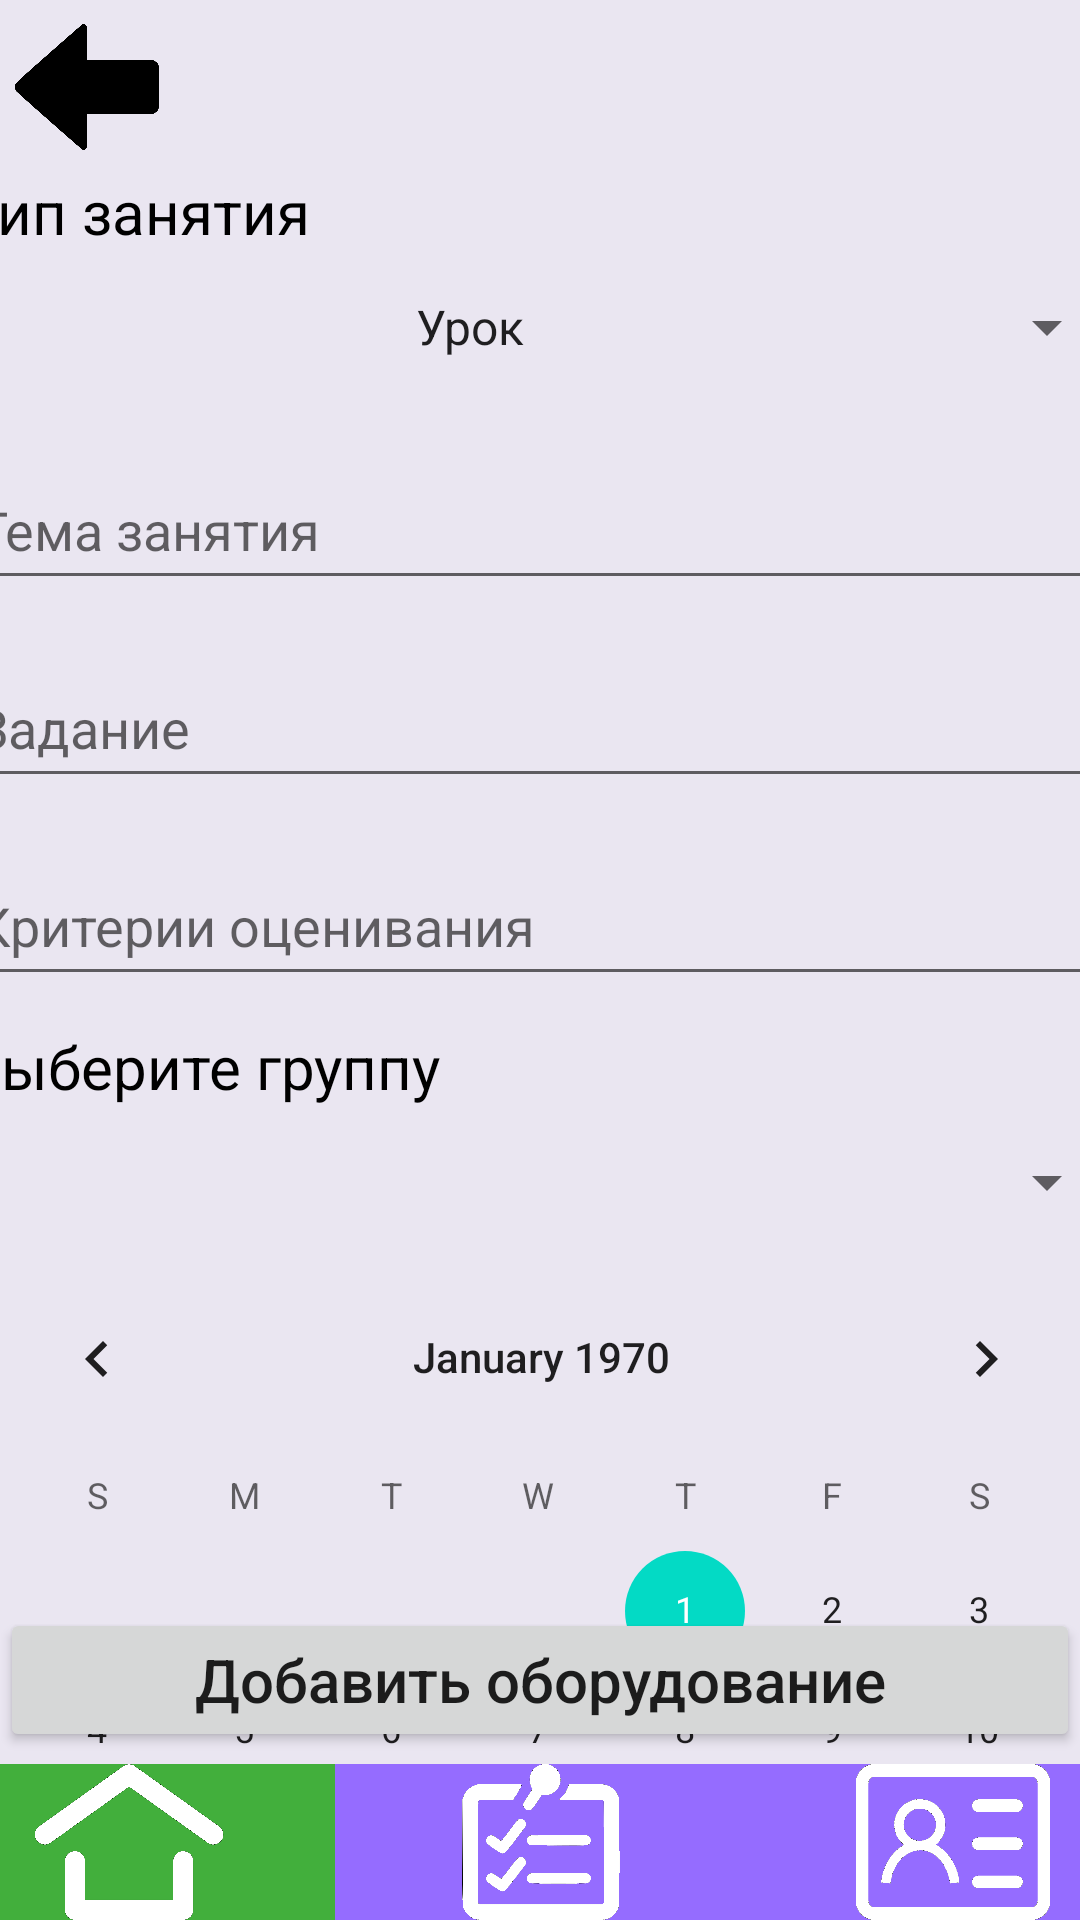

Screen size 1080px×1920px. Icon name, then its center in pixels as (x=x, y=y):
arrow back: (x=87, y=87)
